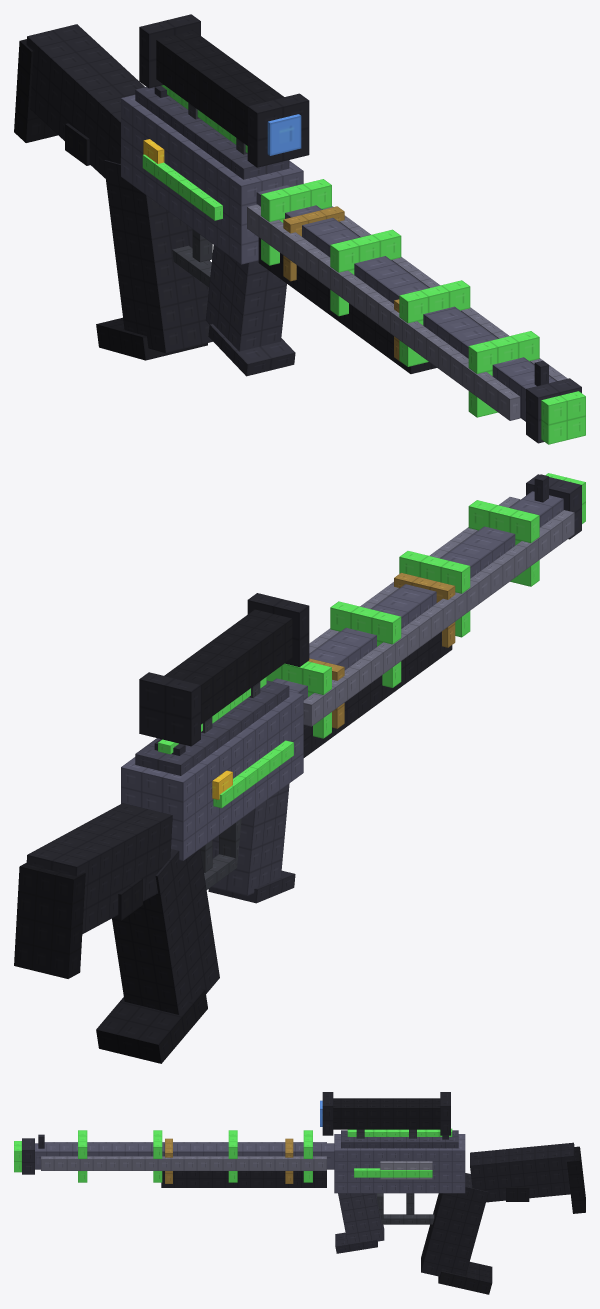
3 renders of one model, top to bottom at view 1: azimuth 30°, elevation 25°; view 2: azimuth 150°, elevation 25°; view 3: azimuth 270°, elevation 25°, orthographic. The views are drawn at different scales.
Visible parts, largest first — view 1: W18; view 2: W18; view 3: W18.
Part boxes in pixels (x1,y1,x2,y2): W18: (14,14,585,444); W18: (14,473,585,1063); W18: (14,1092,585,1294).
Bounding box in the file's own units: 0.38 × 1.58 × 4.37.
Materials: 1 (1 with a texture image).
